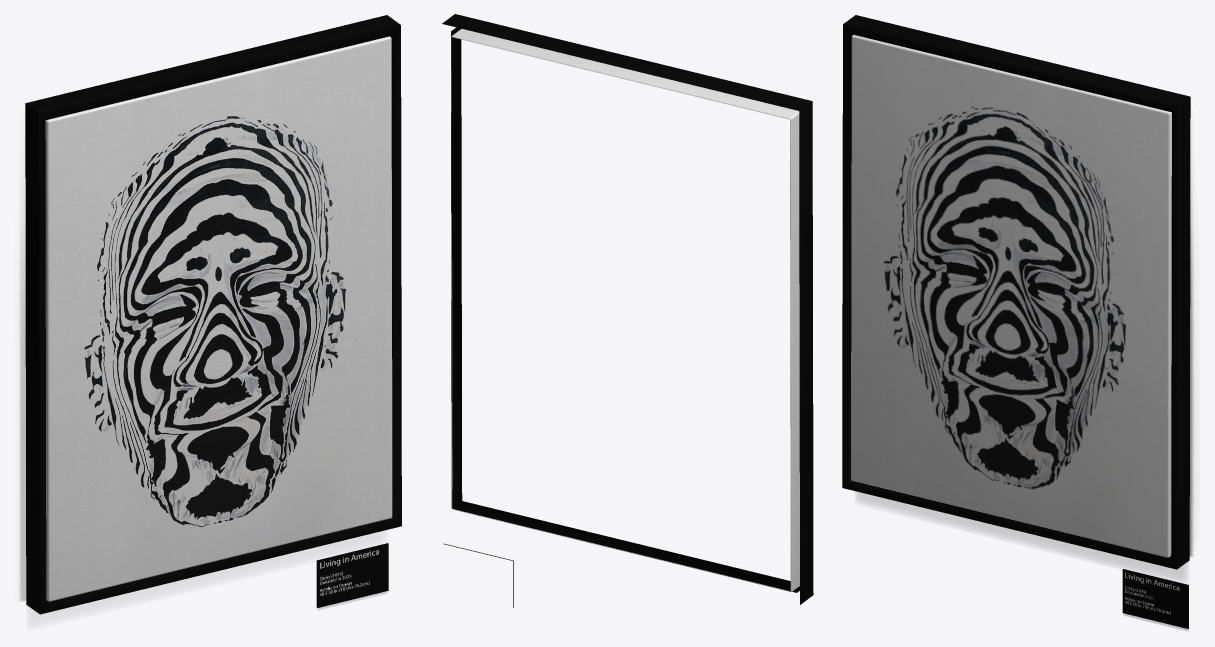
Rendered from living-in-america.glb.
3 views of the same model, side by side, from view 1: azimuth 30°, elevation 25°; view 2: azimuth 150°, elevation 25°; view 3: azimuth 330°, elevation 25° (orthographic). The views are drawn at different scales.
Visible parts, largest first — view 1: Canvas, frame, title, Plane001; view 2: frame, Canvas; view 3: Canvas, frame, title, Plane001.
Boxes of the visible parts, box(x1,y1,x2,y2) form: Canvas: box(45, 36, 392, 601); frame: box(25, 15, 401, 628); title: box(316, 543, 388, 610); Plane001: box(18, 153, 26, 601); frame: box(442, 14, 813, 604); Canvas: box(451, 28, 799, 591); Canvas: box(851, 34, 1171, 557); frame: box(842, 15, 1190, 582); title: box(1122, 569, 1188, 630); Plane001: box(1189, 166, 1194, 557).
Bounding box in the file's own units: 8.47 × 12.24 × 0.5889.
Materials: 3 (2 with a texture image).
